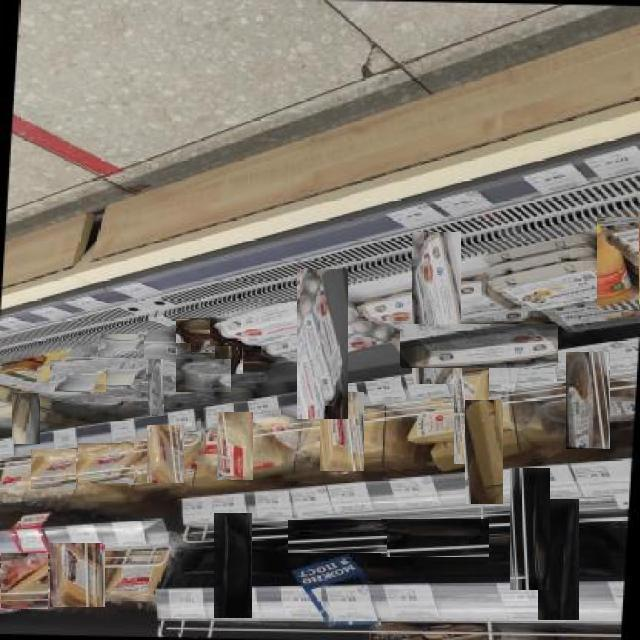Egg: (210, 290, 362, 346), (297, 268, 348, 419), (411, 232, 461, 384), (399, 323, 558, 368), (538, 499, 579, 620), (510, 468, 550, 590), (566, 353, 610, 449), (381, 519, 489, 557), (596, 216, 639, 310), (214, 513, 252, 618), (465, 400, 503, 504), (319, 392, 364, 471), (455, 360, 489, 464), (50, 544, 105, 607), (287, 519, 387, 553), (111, 546, 168, 605), (0, 552, 48, 609), (217, 412, 253, 480), (77, 442, 134, 483), (130, 344, 191, 379), (147, 426, 184, 483), (175, 358, 231, 392), (30, 448, 76, 489), (49, 359, 106, 392), (175, 317, 226, 353), (89, 354, 146, 385), (232, 343, 280, 376), (12, 392, 40, 444), (215, 328, 243, 374), (97, 333, 144, 358), (147, 359, 164, 416)
